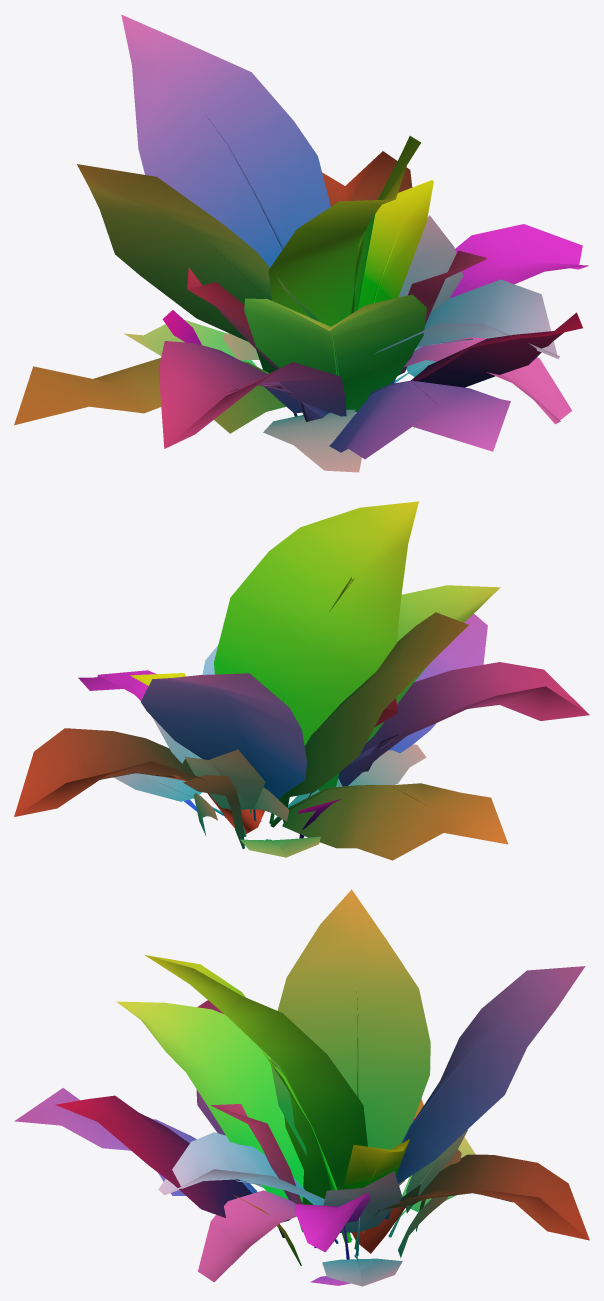
File: Lady_Fern_wdvlditia_Mid_wdvlditia_VarE_LOD1.fbx
3 renders of one model, top to bottom at view 1: azimuth 30°, elevation 25°; view 2: azimuth 150°, elevation 25°; view 3: azimuth 270°, elevation 25°, orthographic. The views are drawn at different scales.
Parts seen in each view (by area): view 1: _03pr_VarE_LOD4; view 2: _03pr_VarE_LOD4; view 3: _03pr_VarE_LOD4.
Part boxes in pixels (x1,y1,x2,y2): _03pr_VarE_LOD4: [14, 14, 588, 472]; _03pr_VarE_LOD4: [14, 501, 589, 860]; _03pr_VarE_LOD4: [14, 889, 589, 1286].
Bounding box in the file's own units: 156 × 90.88 × 175.
